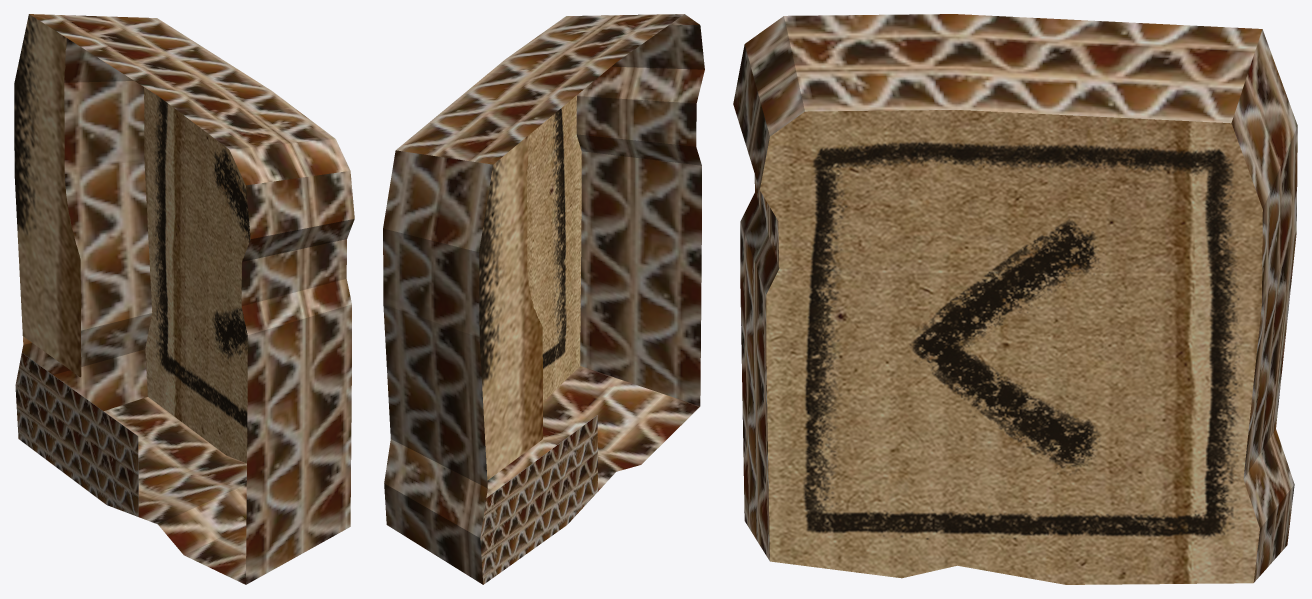
The model's file is Back_Button.fbx.
The picture shows the model from 3 angles, left to right: view 1: azimuth 30°, elevation 25°; view 2: azimuth 150°, elevation 25°; view 3: azimuth 270°, elevation 25°; orthographic projection. The views are drawn at different scales.
Visible parts, largest first — view 1: Plane.010; view 2: Plane.010; view 3: Plane.010.
Part boxes in pixels (x1=…): Plane.010: x1=14, y1=14, x2=354, y2=584; Plane.010: x1=383, y1=14, x2=704, y2=584; Plane.010: x1=733, y1=14, x2=1297, y2=584.
Size of the model in its own units: 5.36 by 19.84 by 19.03.
1 material, 1 textured.
